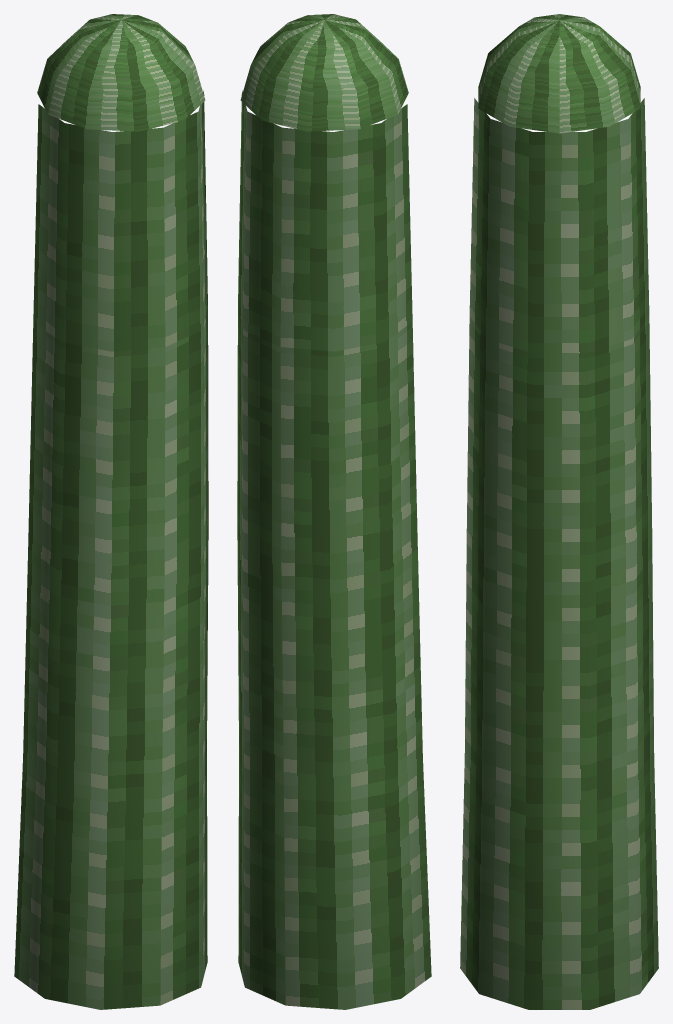
File: saguaro_young.glb
The picture shows the model from 3 angles, left to right: view 1: azimuth 30°, elevation 25°; view 2: azimuth 150°, elevation 25°; view 3: azimuth 270°, elevation 25°; orthographic projection.
Visible parts, largest first — view 1: saguaro_young; view 2: saguaro_young; view 3: saguaro_young.
Boxes of the visible parts, <box> form: saguaro_young: <box>14,14,208,1009</box>; saguaro_young: <box>237,14,431,1009</box>; saguaro_young: <box>460,14,658,1009</box>.
Bounding box in the file's own units: 0.3342 × 1.84 × 0.3465.
1 material, 1 textured.
